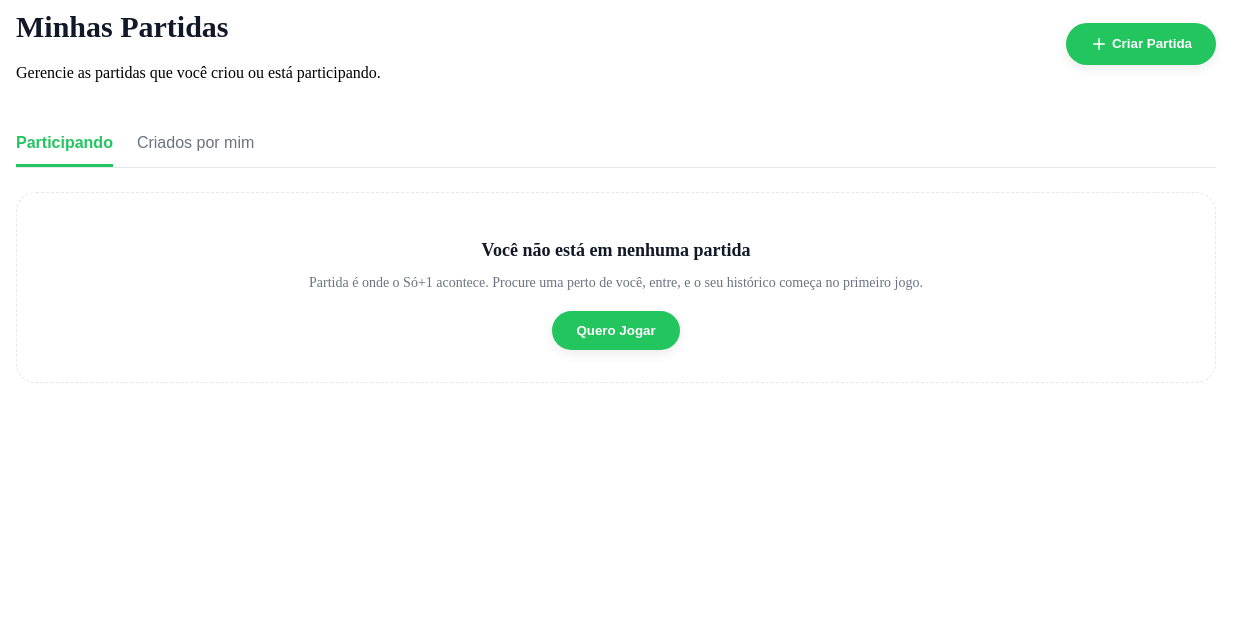
Scenario: MinhasPartidas — ações de organizador › oferece sortear, finalizar e cancelar em partida aberta
Click the button "Criados por mim" at (196, 145), box [137,122,254,167]
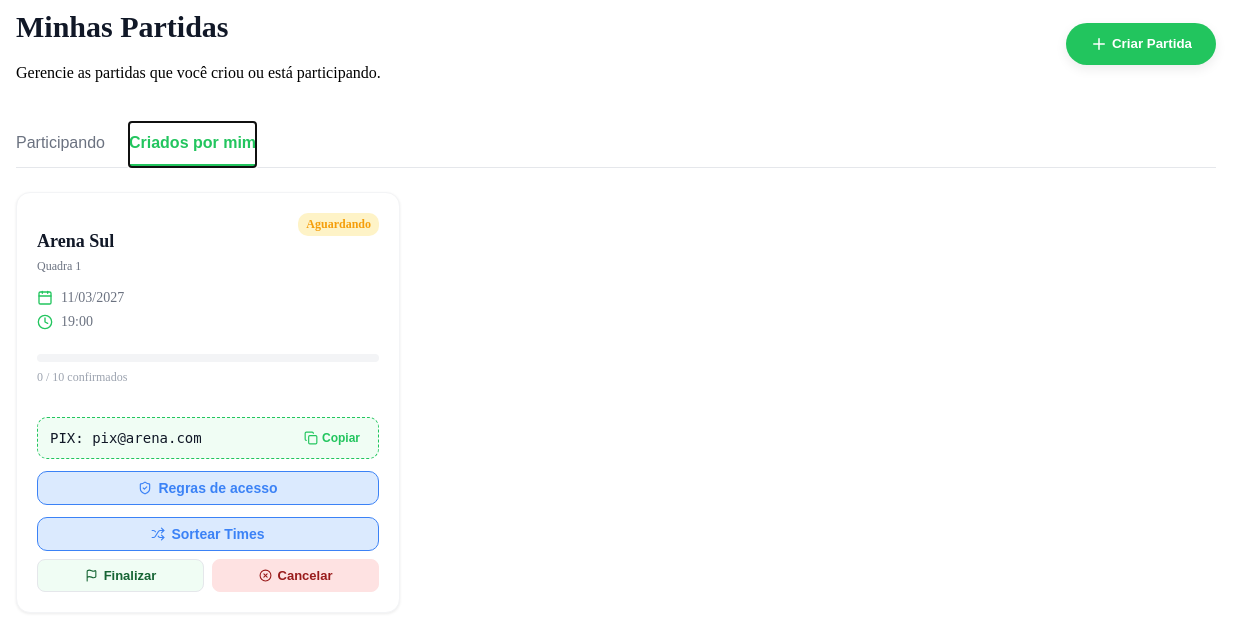
Result: the heading "Arena Sul" is shown at [37,231,114,252]
Result: the button "Sortear Times" is shown at [37,517,379,551]
Result: the button "Finalizar" is shown at [37,559,204,592]
